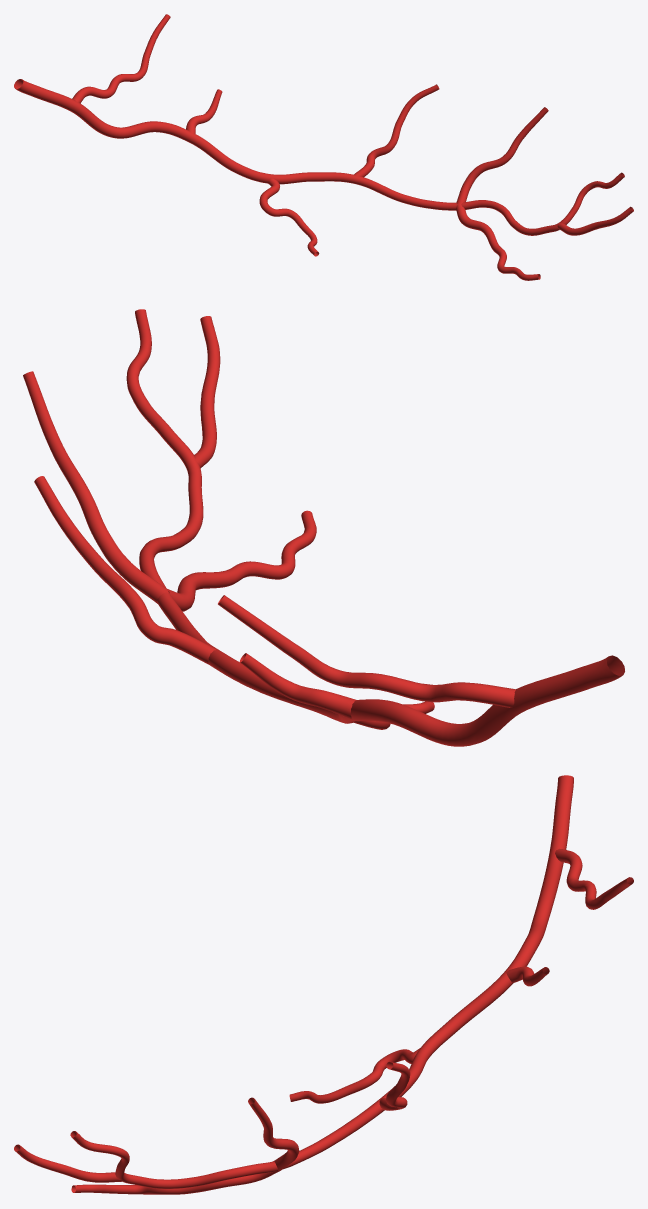
The model's file is circulatorio-right-inferolateral-branch-of-right-coronary-artery.glb.
The picture shows the model from 3 angles, top to bottom: view 1: azimuth 30°, elevation 25°; view 2: azimuth 150°, elevation 25°; view 3: azimuth 270°, elevation 25°; orthographic projection. The views are drawn at different scales.
Parts seen in each view (by area): view 1: Right inferolateral branch of right coronary artery; view 2: Right inferolateral branch of right coronary artery; view 3: Right inferolateral branch of right coronary artery.
Part boxes in pixels (x1,y1,x2,y2): Right inferolateral branch of right coronary artery: (14, 14, 633, 280); Right inferolateral branch of right coronary artery: (23, 309, 624, 746); Right inferolateral branch of right coronary artery: (14, 775, 633, 1194).
Size of the model in its own units: 0.0558 by 0.0202 by 0.0523.
